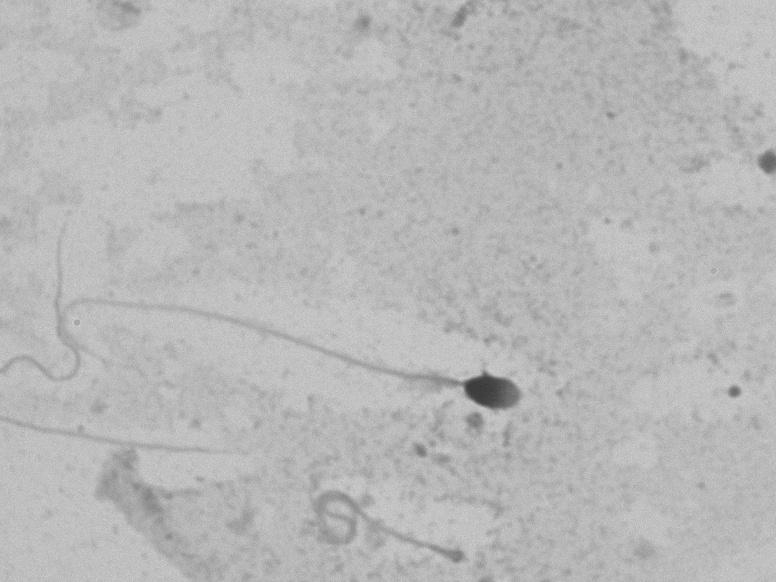Normal: (20, 269, 579, 414)
